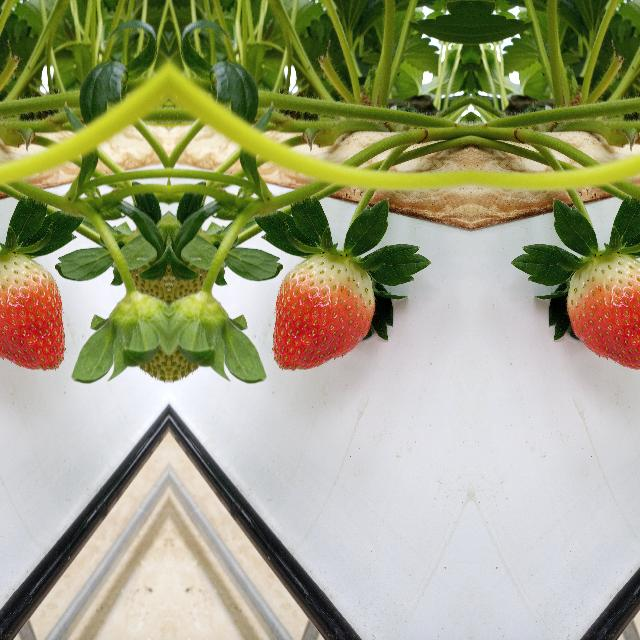Health_75: (269, 252, 375, 372), (566, 252, 640, 372), (0, 252, 67, 372)
